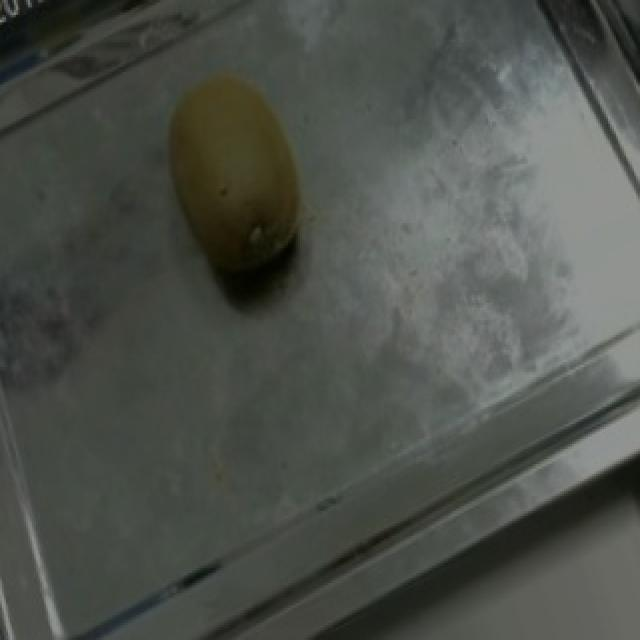Fruit: (124, 40, 346, 320)
